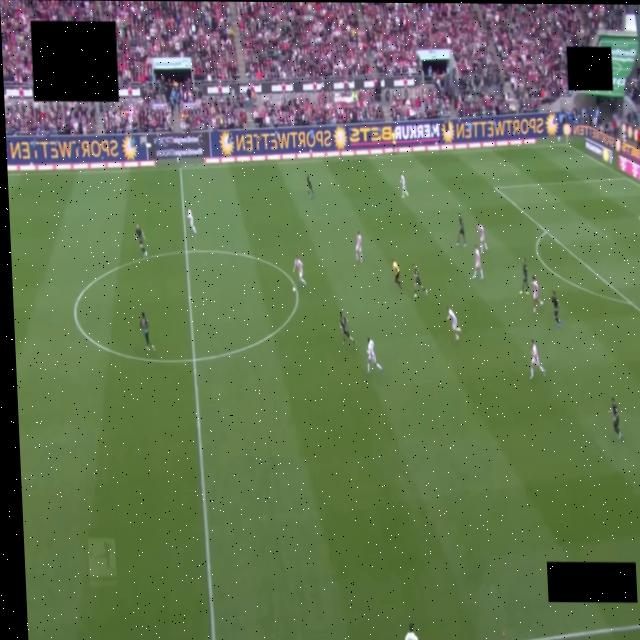ball: (293, 288, 295, 292)
player: (139, 312, 154, 351), (530, 340, 544, 379), (608, 397, 621, 438), (366, 339, 381, 373), (339, 313, 355, 344), (413, 264, 427, 298), (551, 290, 562, 328), (531, 276, 542, 313), (447, 308, 460, 339), (134, 224, 146, 256), (293, 256, 305, 286), (472, 246, 482, 278), (477, 221, 487, 253), (519, 259, 528, 294), (456, 213, 465, 245), (355, 232, 362, 263), (186, 209, 195, 233), (404, 624, 417, 639), (306, 175, 314, 198), (400, 174, 408, 197)
referee: (391, 259, 401, 290)
